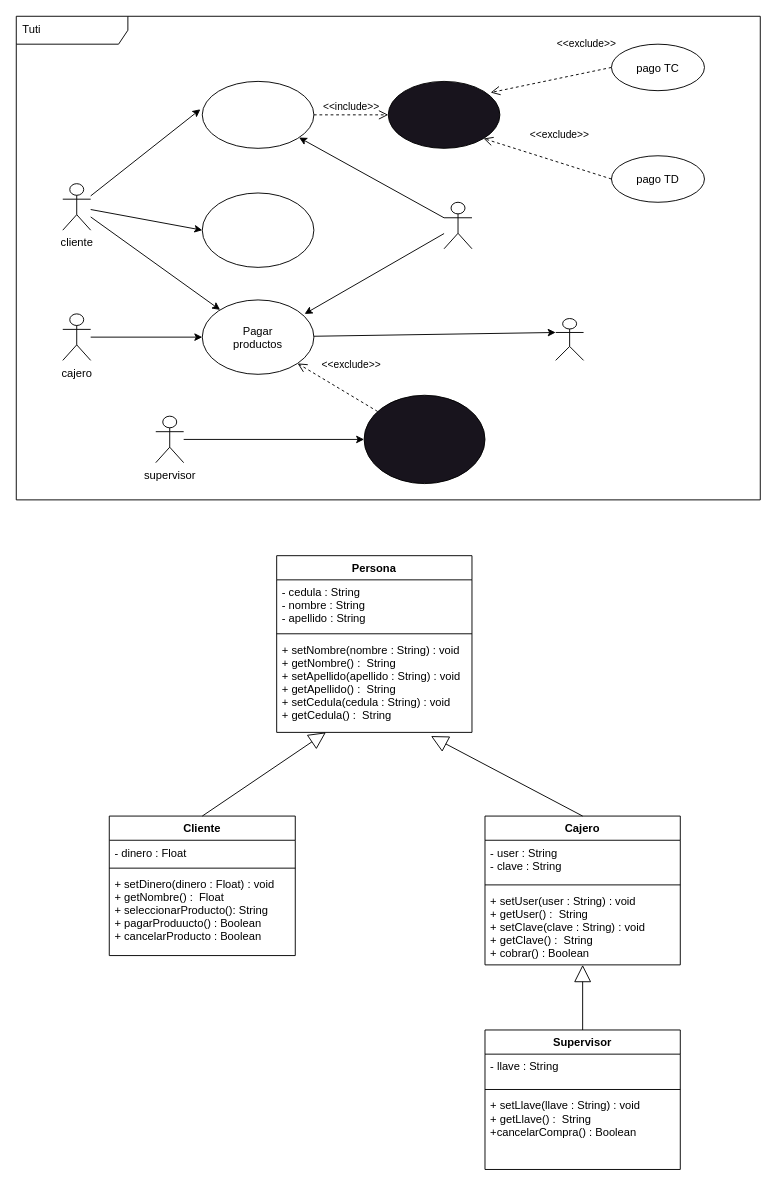
This 777x1189 diagram has some shape labels left out. The centre of each missing label's shape, as x and y in pixels:
"App(sistema)" belongs at point 457,225.
"Cancelar compra del producto" belongs at point 424,439.
"impresora/email" belongs at point 569,339.
"Pago del producto" belongs at point 443,114.
"seleccionar producto anline" belongs at point 257,114.
"Seleccionar productos" belongs at point 257,229.
